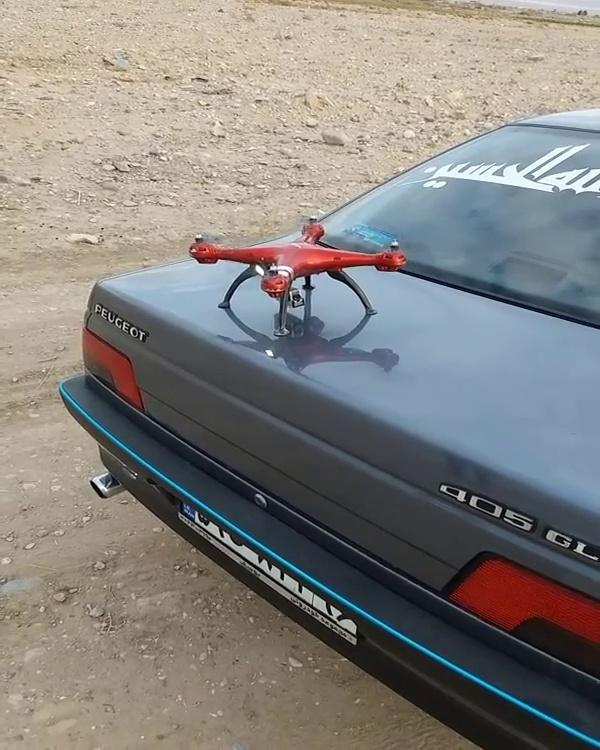drone: (179, 212, 423, 340)
